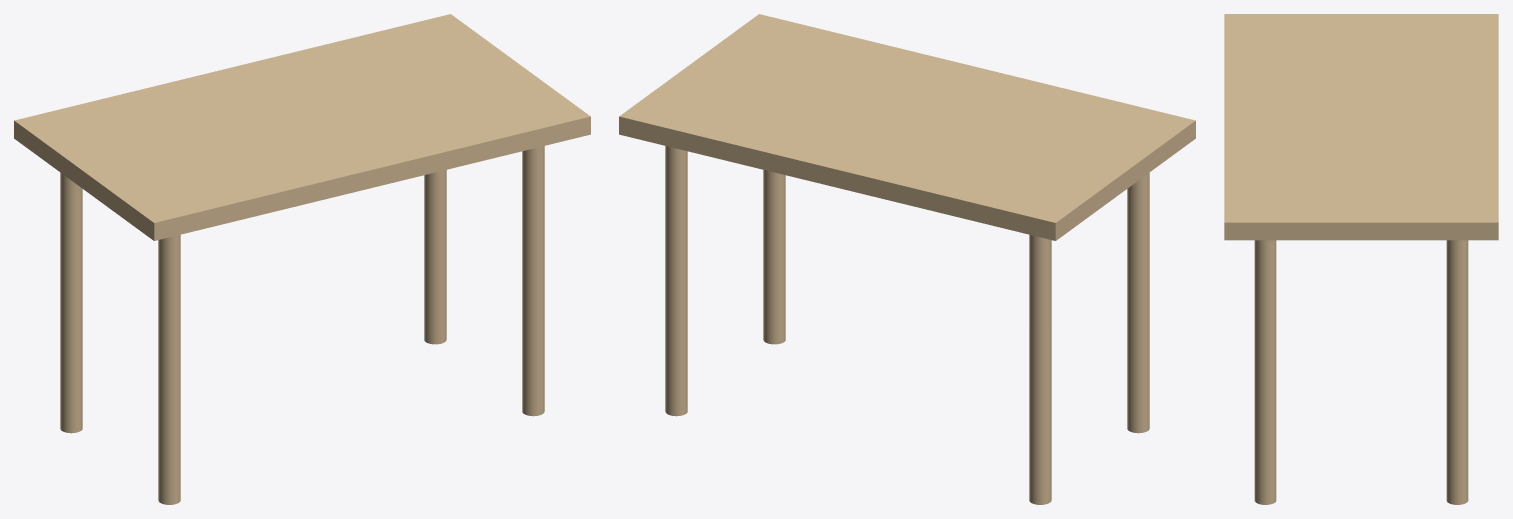
The model's file is ikea-stockholm-00498985-g2-proxy.glb.
The picture shows the model from 3 angles, left to right: view 1: azimuth 30°, elevation 25°; view 2: azimuth 150°, elevation 25°; view 3: azimuth 270°, elevation 25°; orthographic projection. The views are drawn at different scales.
Visible parts, largest first — view 1: proxy_body, leg (×4); view 2: proxy_body, leg (×4); view 3: proxy_body, leg (×2).
Boxes of the visible parts, box(x1,y1,x2,y2) form: proxy_body: box(14, 14, 590, 240); leg (×4): box(60, 146, 544, 504); proxy_body: box(619, 14, 1195, 240); leg (×4): box(665, 146, 1149, 504); proxy_body: box(1224, 14, 1498, 240); leg (×2): box(1254, 240, 1468, 504).
Size of the model in its own units: 0.72 by 0.475 by 0.4.
